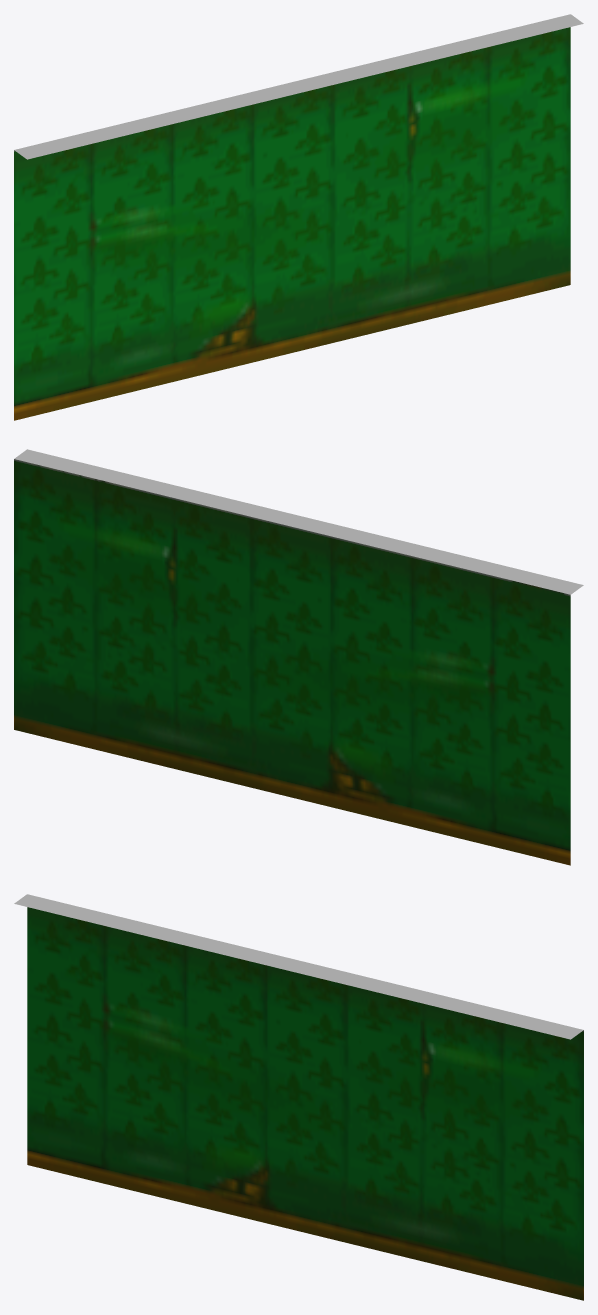
Rendered from W_I3_xxx [Grün_Halb]_2220.glb.
3 renders of one model, top to bottom at view 1: azimuth 30°, elevation 25°; view 2: azimuth 150°, elevation 25°; view 3: azimuth 330°, elevation 25°, orthographic.
Visible parts, largest first — view 1: pPlaneShape3, pPlaneShape1; view 2: pPlaneShape3, pPlaneShape1; view 3: pPlaneShape3, pPlaneShape1.
Part boxes in pixels (x1,y1,x2,y2): pPlaneShape3: (14,27,570,420); pPlaneShape1: (14,14,583,159); pPlaneShape3: (14,459,570,865); pPlaneShape1: (14,449,583,594); pPlaneShape3: (27,907,583,1300); pPlaneShape1: (14,894,583,1039).
Bounding box in the file's own units: 0.75 × 0.3486 × 0.0308.
Materials: 2 (1 with a texture image).
